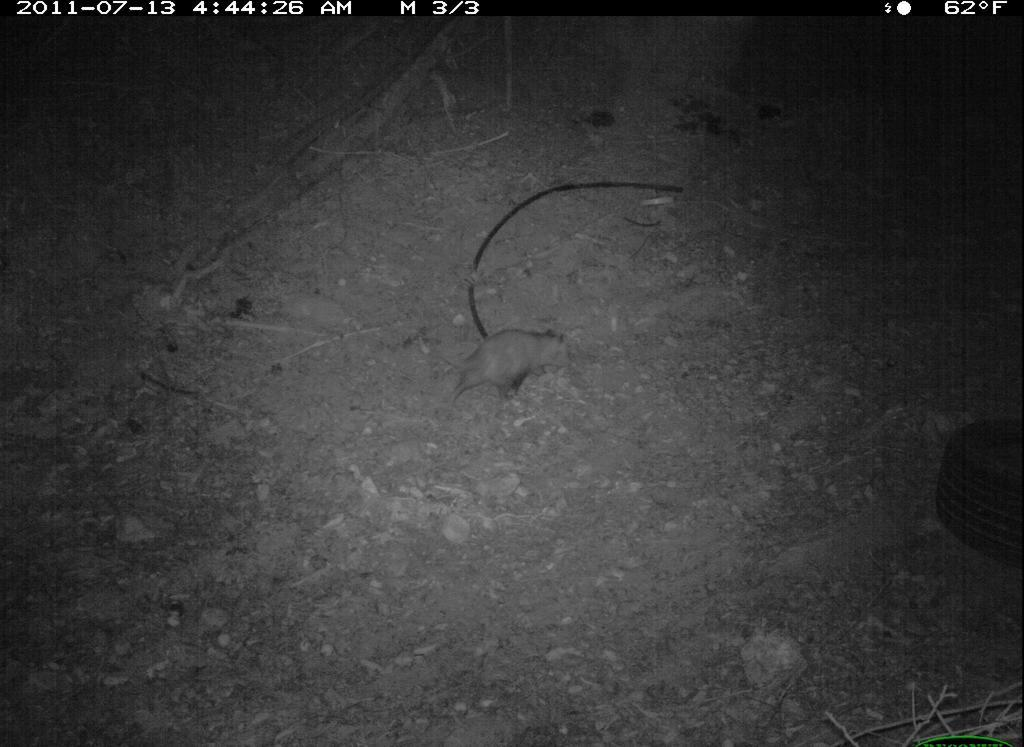opossum: (418, 319, 584, 419)
